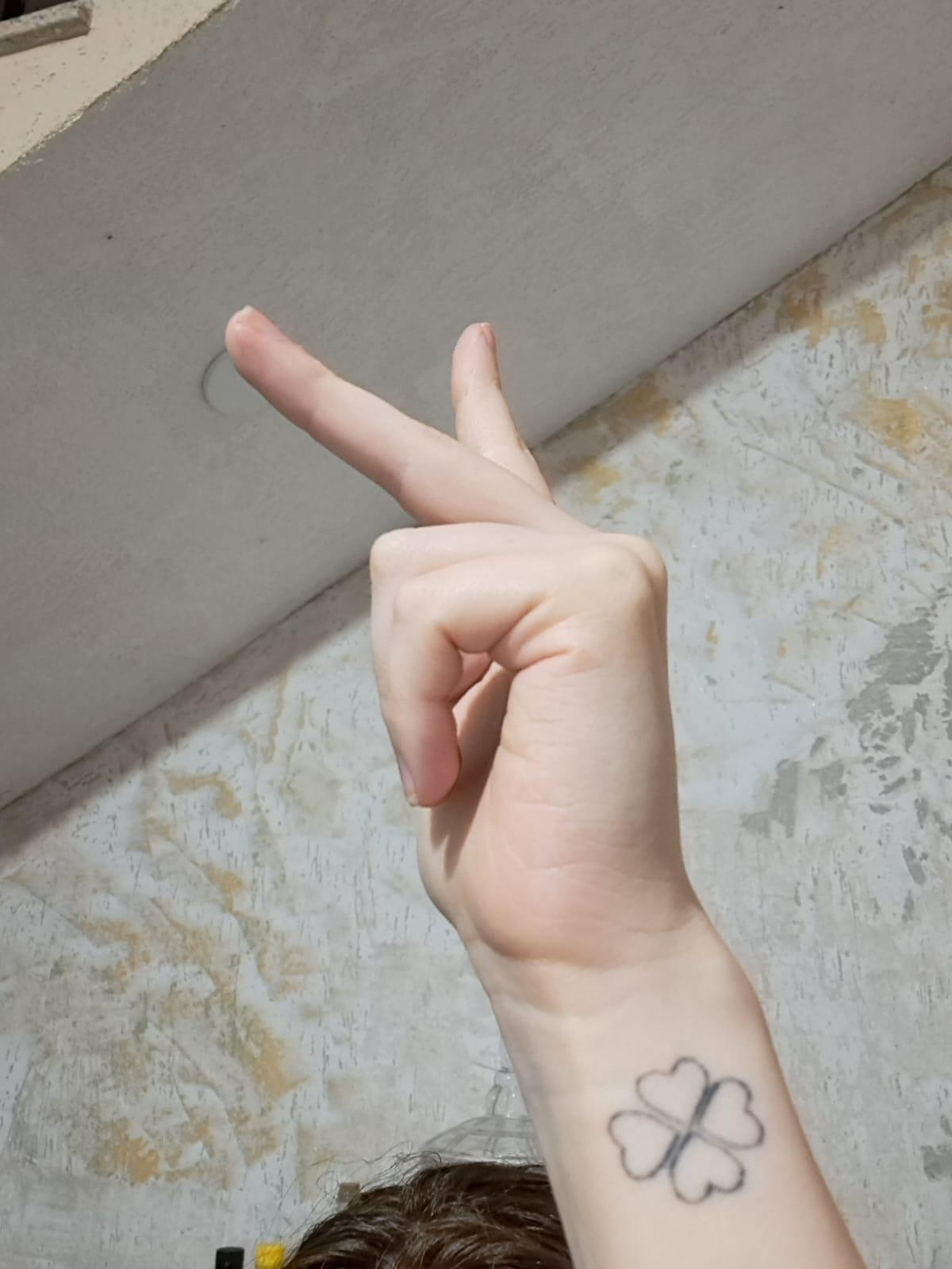K: (206, 280, 702, 952)
